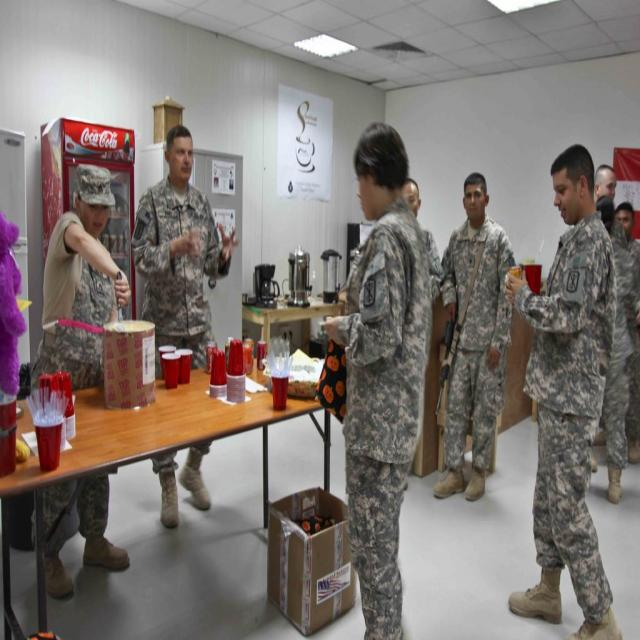Box: (270, 498, 356, 630)
